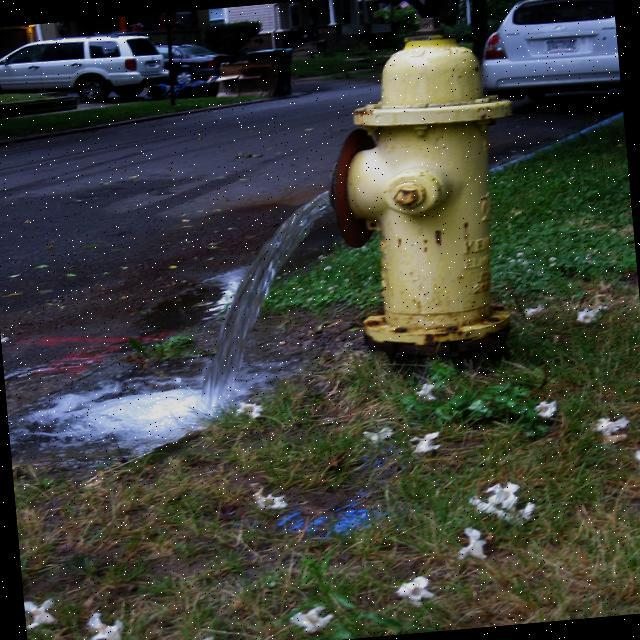fire_hydrant: (312, 28, 530, 376)
